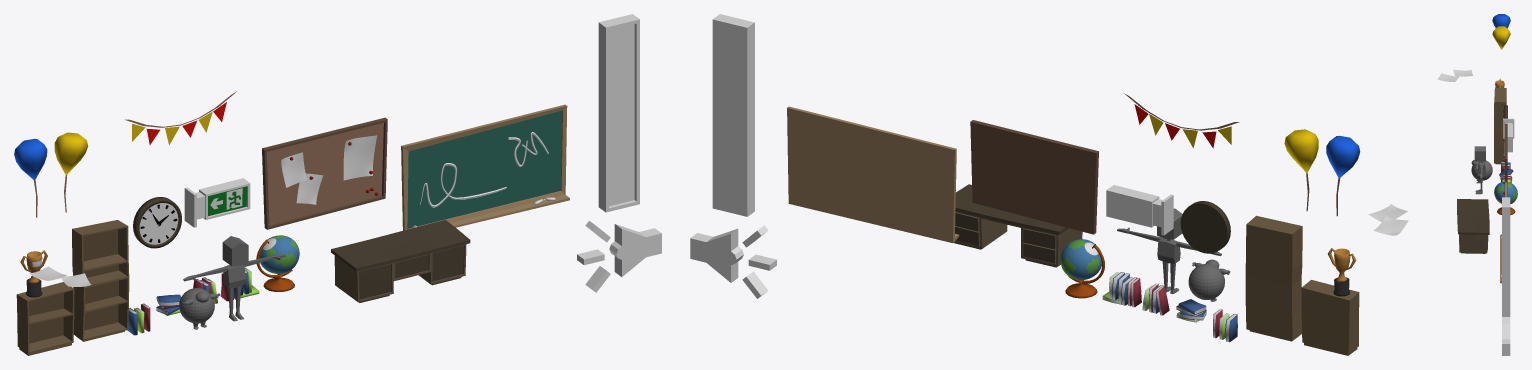
Rendered from PropFactory.fbx.
The picture shows the model from 3 angles, left to right: view 1: azimuth 30°, elevation 25°; view 2: azimuth 150°, elevation 25°; view 3: azimuth 270°, elevation 25°; orthographic projection. The views are drawn at different scales.
Visible parts, largest first — view 1: Prop_Blackboard, NoticeBoard, TeachersDesk, SoundOMeter, Prop_ShelvesUnit, SoundBarrier, Prop_ShelvesUnit.001, ExitSign, Clock, Teacher, Prop_Globe, Default_Kid (+5 smaller); view 2: Prop_Blackboard, SoundOMeter, NoticeBoard, Prop_ShelvesUnit, TeachersDesk, Prop_ShelvesUnit.001, ExitSign, Clock, Prop_Globe, Teacher, Default_Kid, Deco1 (+7 smaller); view 3: TeachersDesk, SoundOMeter, Prop_ShelvesUnit, Prop_Globe, Teacher, ExitSign, Default_Kid, baloon2, NoticeBoard, NoticeBoard.001, balloon1, Prop_Blackboard.
Boxes of the visible parts, x1,y1,x2,y2 form: Prop_Blackboard: (401,104,569,230); NoticeBoard: (262,117,387,229); TeachersDesk: (331,220,470,302); SoundOMeter: (577,14,661,292); Prop_ShelvesUnit: (72,220,129,341); SoundBarrier: (609,24,634,206); Prop_ShelvesUnit.001: (16,282,74,355); ExitSign: (184,178,250,227); Clock: (133,197,181,248); Teacher: (183,236,285,321); Prop_Globe: (256,235,299,291); Default_Kid: (179,288,219,329); Prop_Blackboard: (787,106,959,242); SoundOMeter: (690,14,776,298); NoticeBoard: (970,120,1098,234); Prop_ShelvesUnit: (1245,215,1302,341); TeachersDesk: (954,184,1082,267); Prop_ShelvesUnit.001: (1301,280,1359,355); ExitSign: (1106,185,1173,235); Clock: (1180,201,1230,253); Prop_Globe: (1060,239,1104,298); Teacher: (1117,208,1221,293); Default_Kid: (1188,259,1230,301); Deco1: (1124,93,1239,148); TeachersDesk: (1457,199,1489,253); SoundOMeter: (1502,197,1510,355); Prop_ShelvesUnit: (1494,87,1506,164); Prop_Globe: (1494,181,1517,214); Teacher: (1474,146,1485,194); ExitSign: (1503,118,1514,152); Default_Kid: (1471,160,1492,183); baloon2: (1492,26,1510,49); NoticeBoard: (1503,123,1507,196); NoticeBoard.001: (1437,69,1473,82); balloon1: (1492,14,1510,28); Prop_Blackboard: (1500,182,1507,283).
Bounding box in the file's own units: 1769 × 742 × 316.
